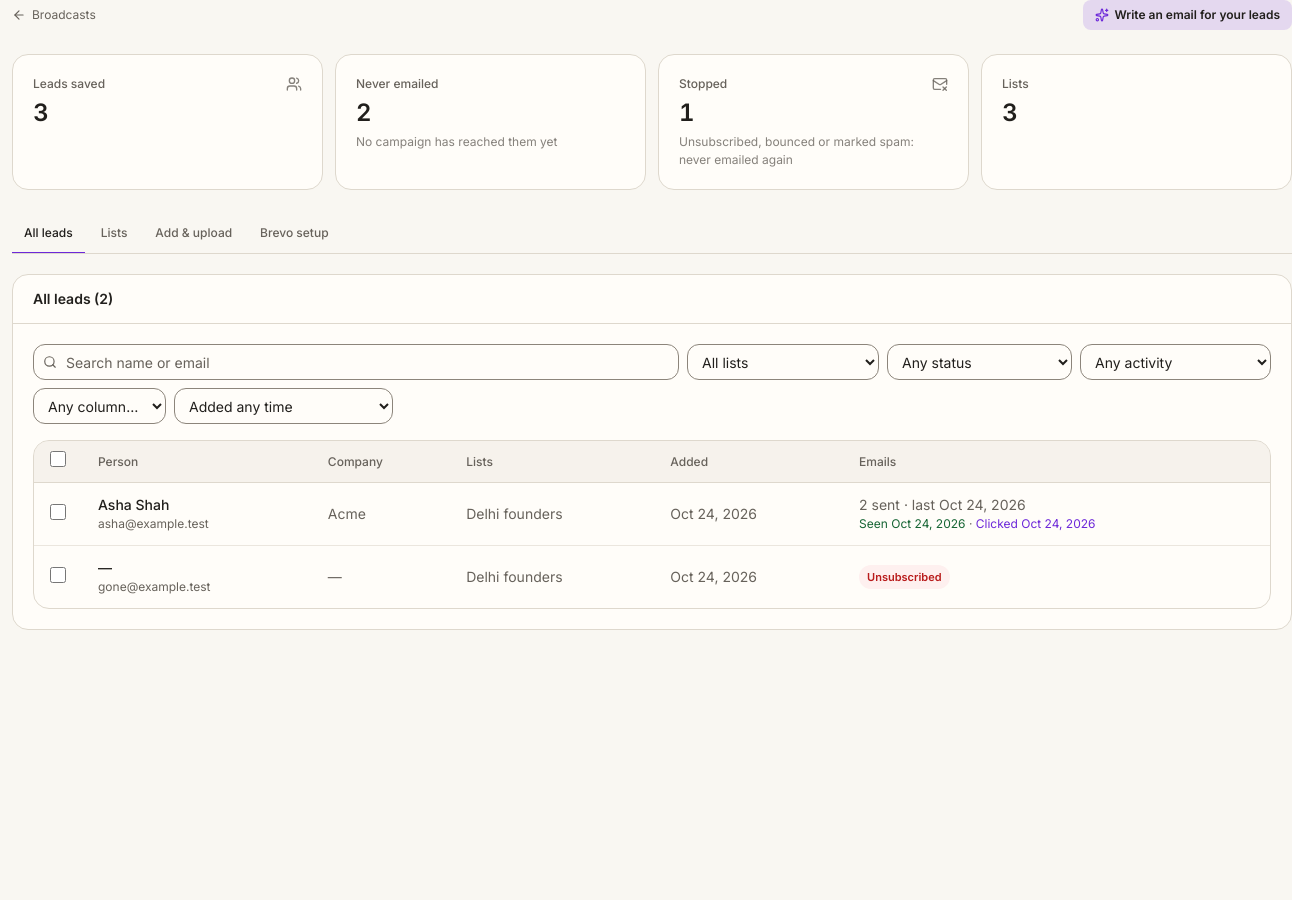
Test: the Leads page › a smart list's filters are changed in All leads and saved to it
Expected: the table is shown, [34,441,1270,608]
Click the tab "Lists" at (114, 234), box [89,214,139,254]
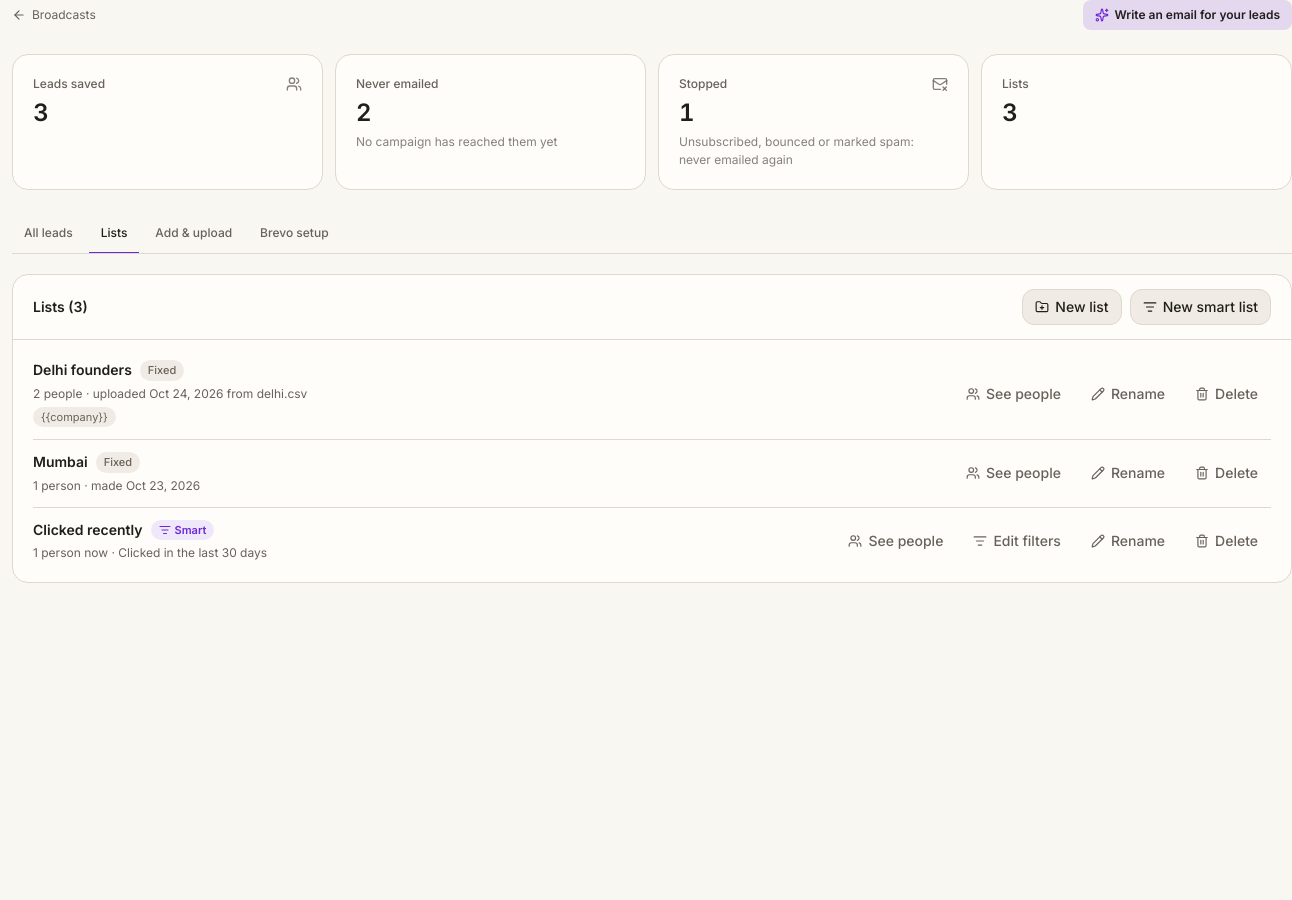
Click the button "Edit filters" at (1017, 541), box [960,523,1074,559]
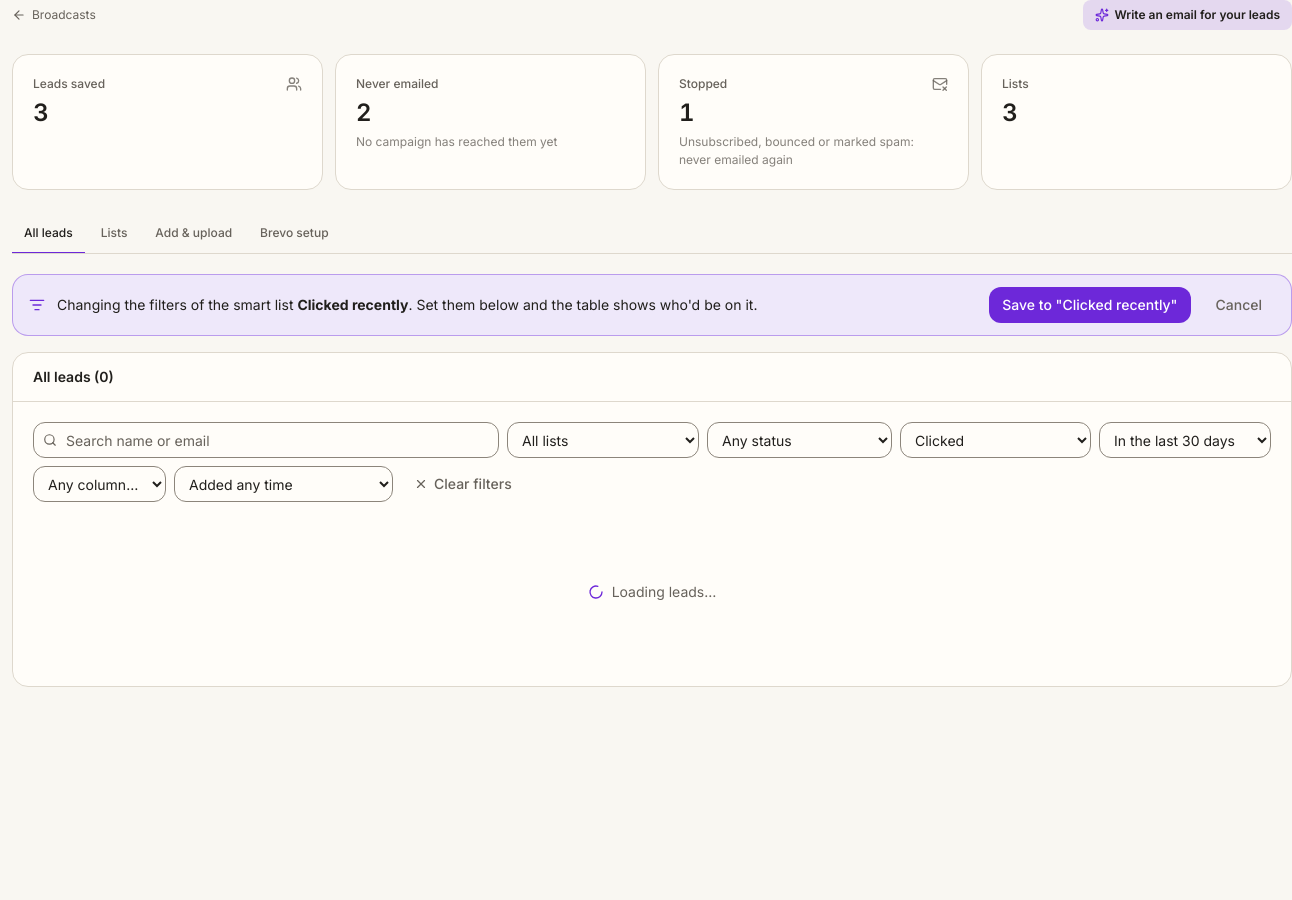
Now the text "Changing the filters of the smart list" is shown, box [57,296,297,313]
Now the dropdown named "Activity" shows "Clicked", box [900,422,1091,458]
Select "In the last 7 days" in the dropdown named "Within" at (1185, 440), box [1099,422,1271,458]
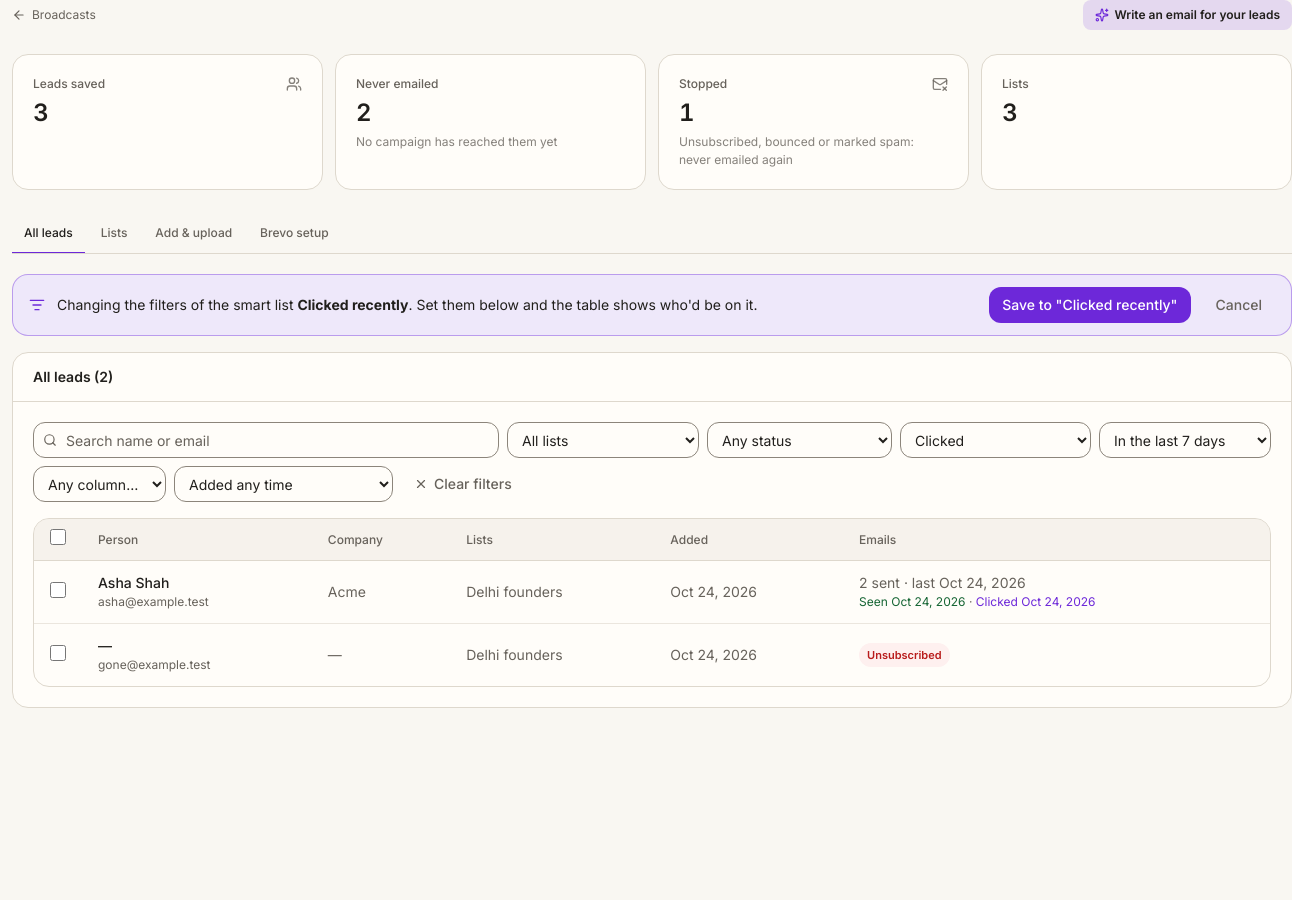
Click the button "Save to \"Clicked recently\"" at (1090, 305), box [989,287,1191,323]
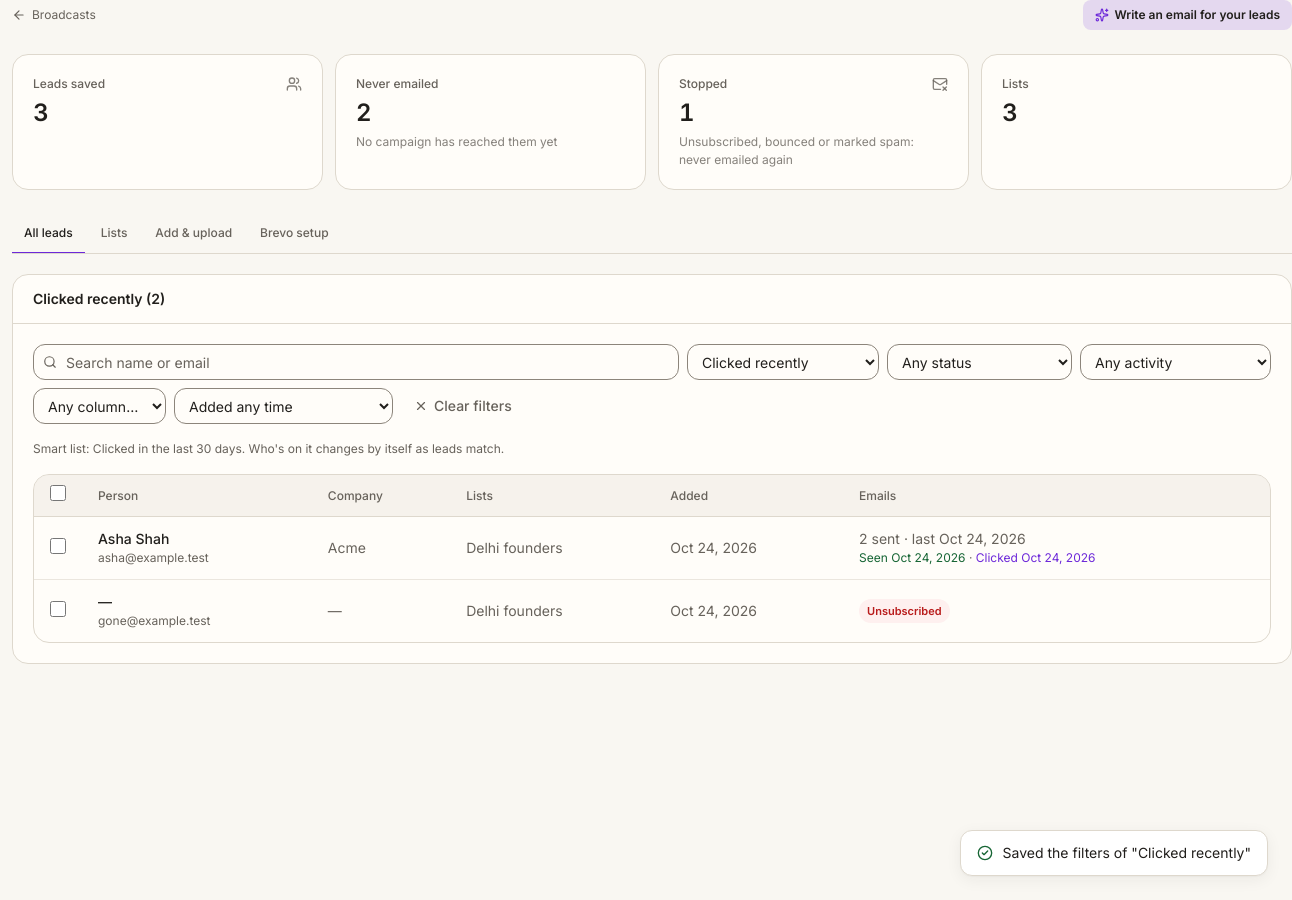
Now the text "Saved the filters of \"Clicked recently\"" is shown, box [1003,843,1251,863]
Now the text "Changing the filters" is gone
